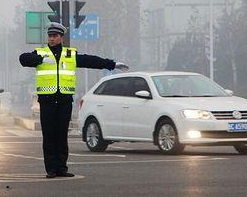person: (19, 20, 131, 178)
